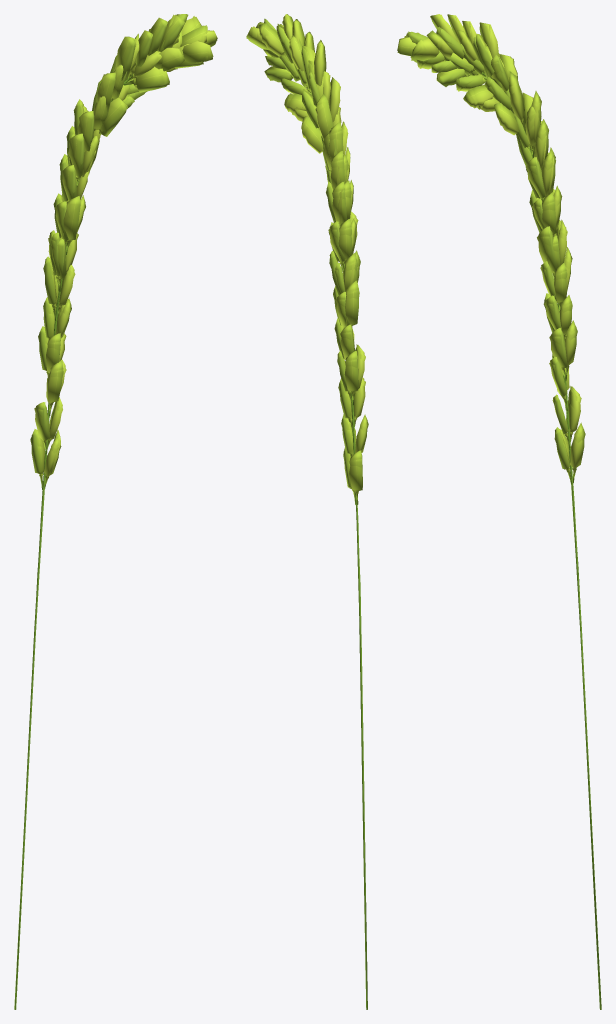
File: RiceFlower9_LOD.fbx
The picture shows the model from 3 angles, left to right: view 1: azimuth 90°, elevation 25°; view 2: azimuth 210°, elevation 25°; view 3: azimuth 270°, elevation 25°; orthographic projection. The views are drawn at different scales.
Visible parts, largest first — view 1: RiceFlower9_LOD0, RiceFlower9_LOD0.001, RiceFlower9_LOD0.002; view 2: RiceFlower9_LOD0, RiceFlower9_LOD0.001, RiceFlower9_LOD0.002; view 3: RiceFlower9_LOD0, RiceFlower9_LOD0.001, RiceFlower9_LOD0.002.
Boxes of the visible parts, <box> form: RiceFlower9_LOD0: <box>14,14,217,1009</box>; RiceFlower9_LOD0.001: <box>14,14,215,1008</box>; RiceFlower9_LOD0.002: <box>30,14,217,640</box>; RiceFlower9_LOD0: <box>246,14,367,1009</box>; RiceFlower9_LOD0.001: <box>247,14,367,1009</box>; RiceFlower9_LOD0.002: <box>246,14,368,1009</box>; RiceFlower9_LOD0: <box>397,14,601,1008</box>; RiceFlower9_LOD0.001: <box>397,15,601,1009</box>; RiceFlower9_LOD0.002: <box>397,14,601,1009</box>.
Bounding box in the file's own units: 31.36 × 584 × 108.
1 material, 1 textured.
